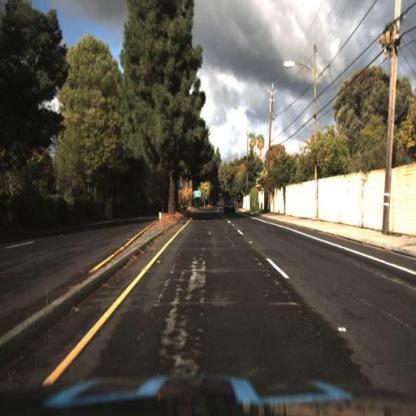car: (225, 200, 237, 216)
